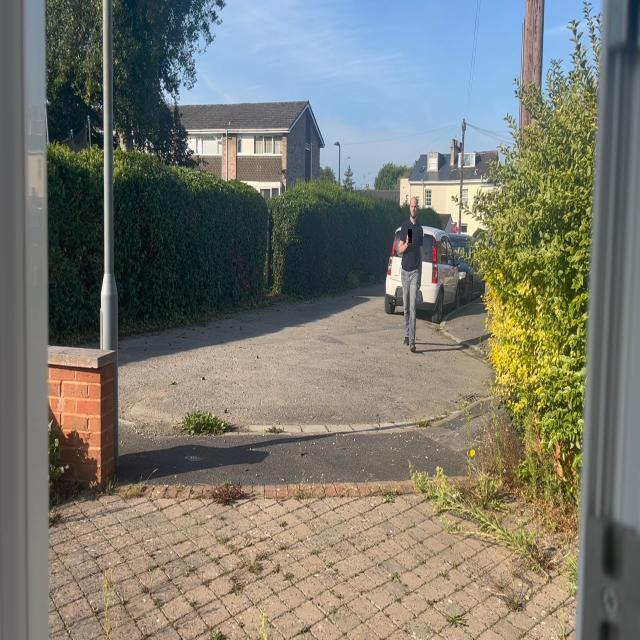phone: (408, 229, 412, 243)
